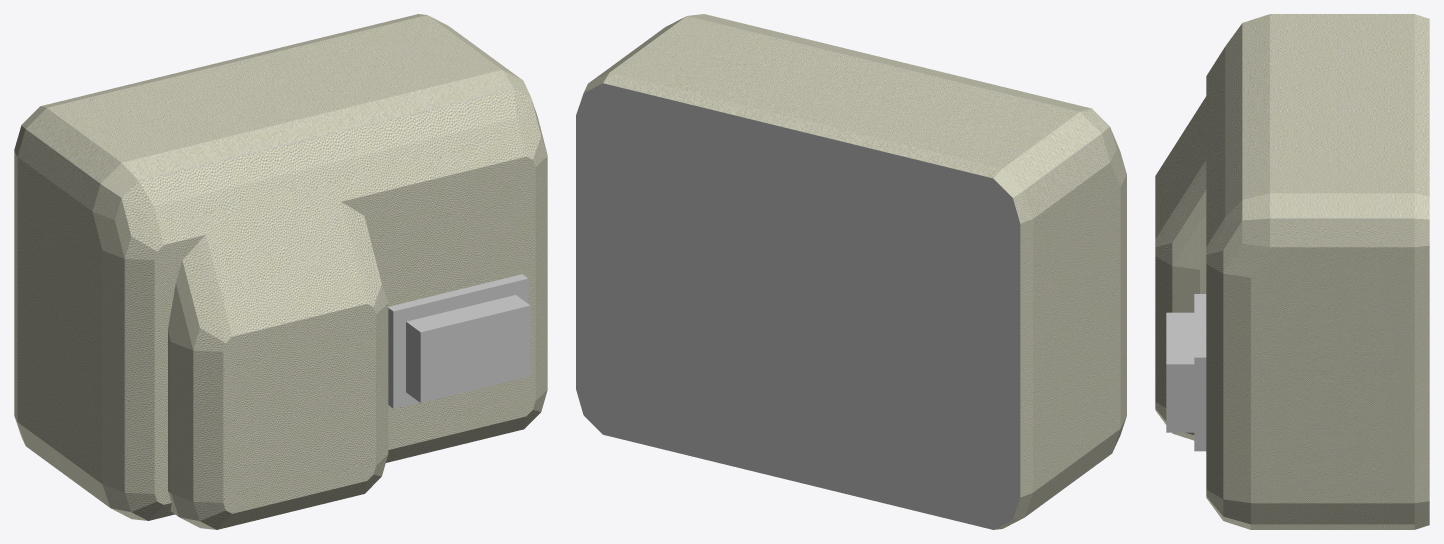
Rendered from handdryer.gltf.
3 renders of one model, left to right at view 1: azimuth 30°, elevation 25°; view 2: azimuth 150°, elevation 25°; view 3: azimuth 270°, elevation 25°, orthographic. The views are drawn at different scales.
Bounding box in the file's own units: 0.26 × 0.1976 × 0.1458.
Materials: 2 (1 with a texture image).
